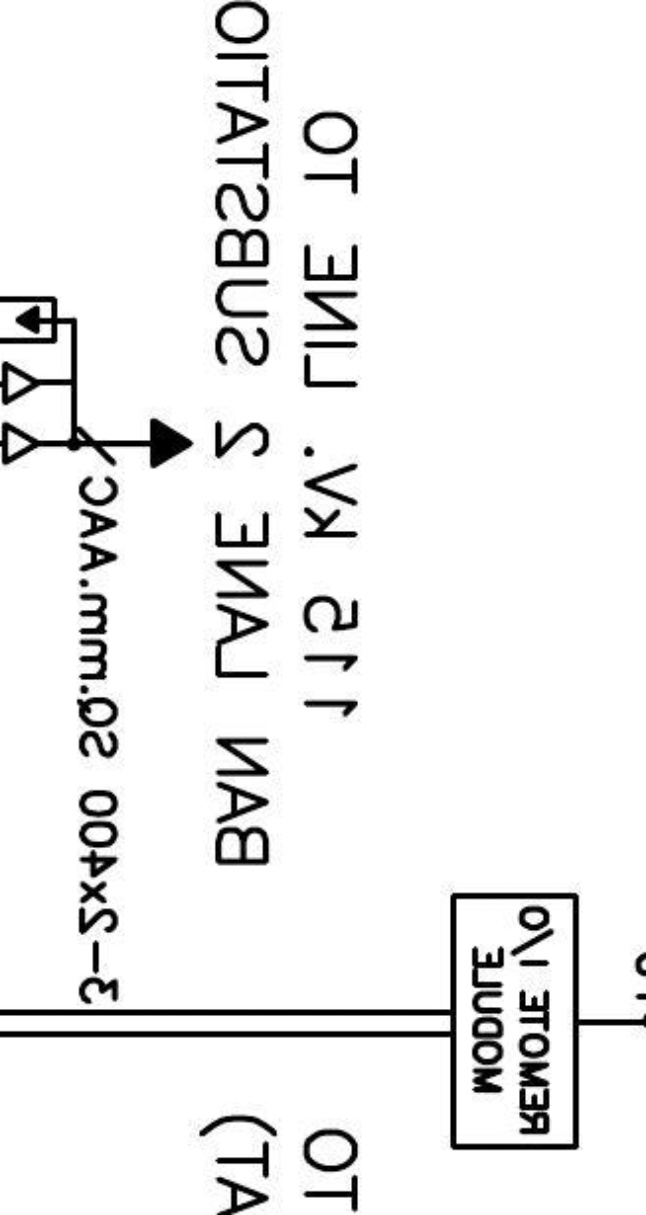remote_io_module: (449, 893, 579, 1151)
terminator_double: (1, 359, 80, 468)
